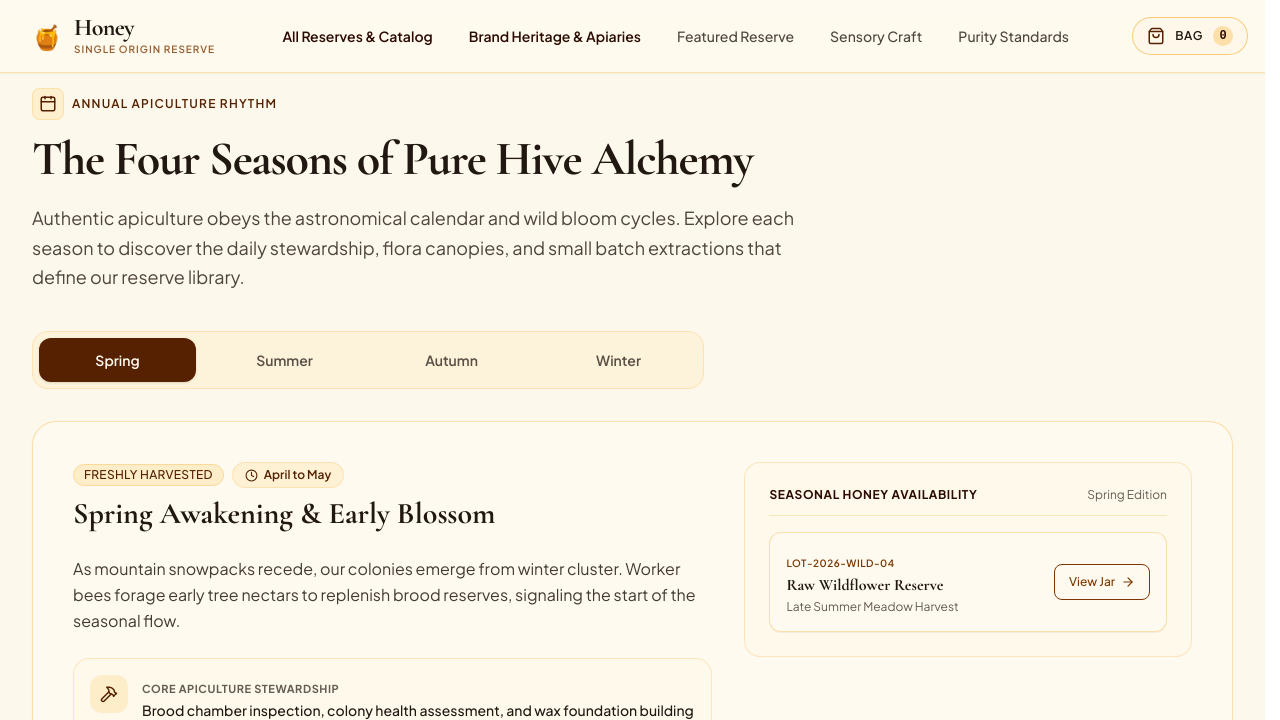
Test: Brand Heritage & Apiary Story E2E (Spec 0006) › AC-3 & AC-7: Switch to Winter season pill and verify quiescence badge and dormancy empty state
The width and height of the screenshot is (1280, 720).
(page scrolled)
Click the tab with id "season-tab-winter" at (619, 360), box [540,338,697,382]
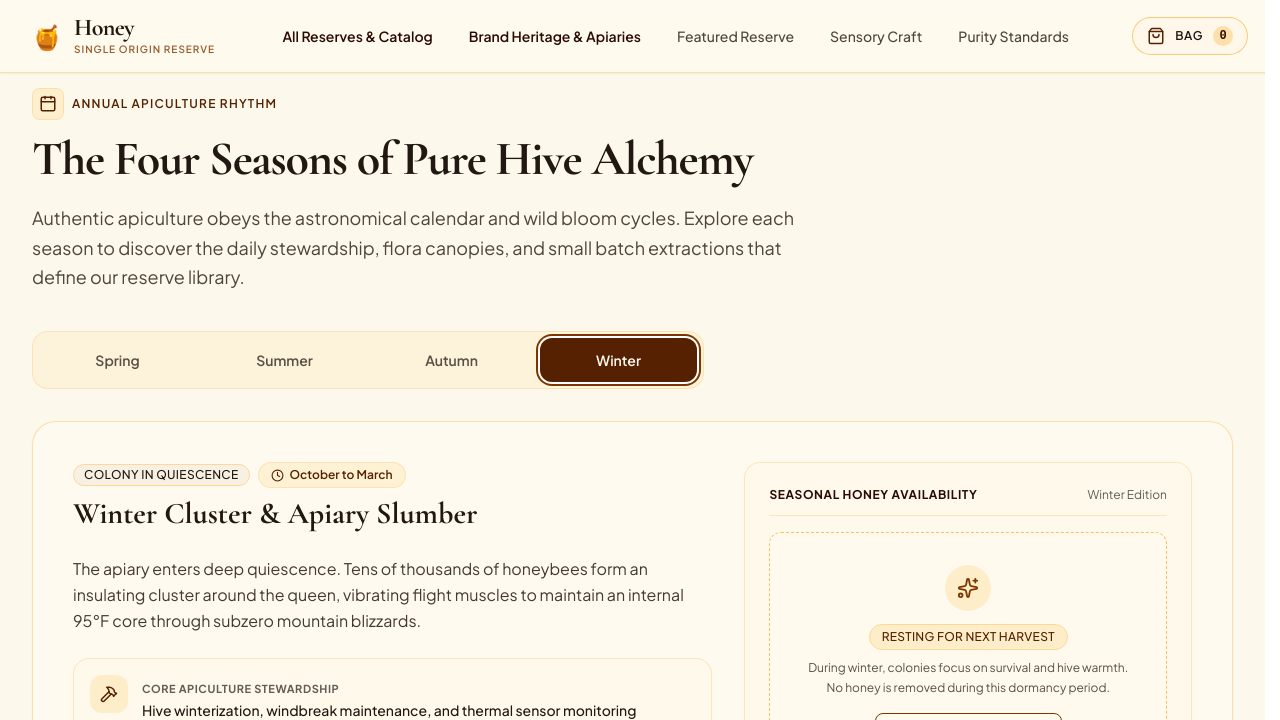
Check: the text "Colony In Quiescence" is shown, box [73,464,250,486]
Check: the text "Resting for next harvest" is shown, box [869,624,1068,650]
Check: the text "October to March" is shown, box [258,462,406,488]
